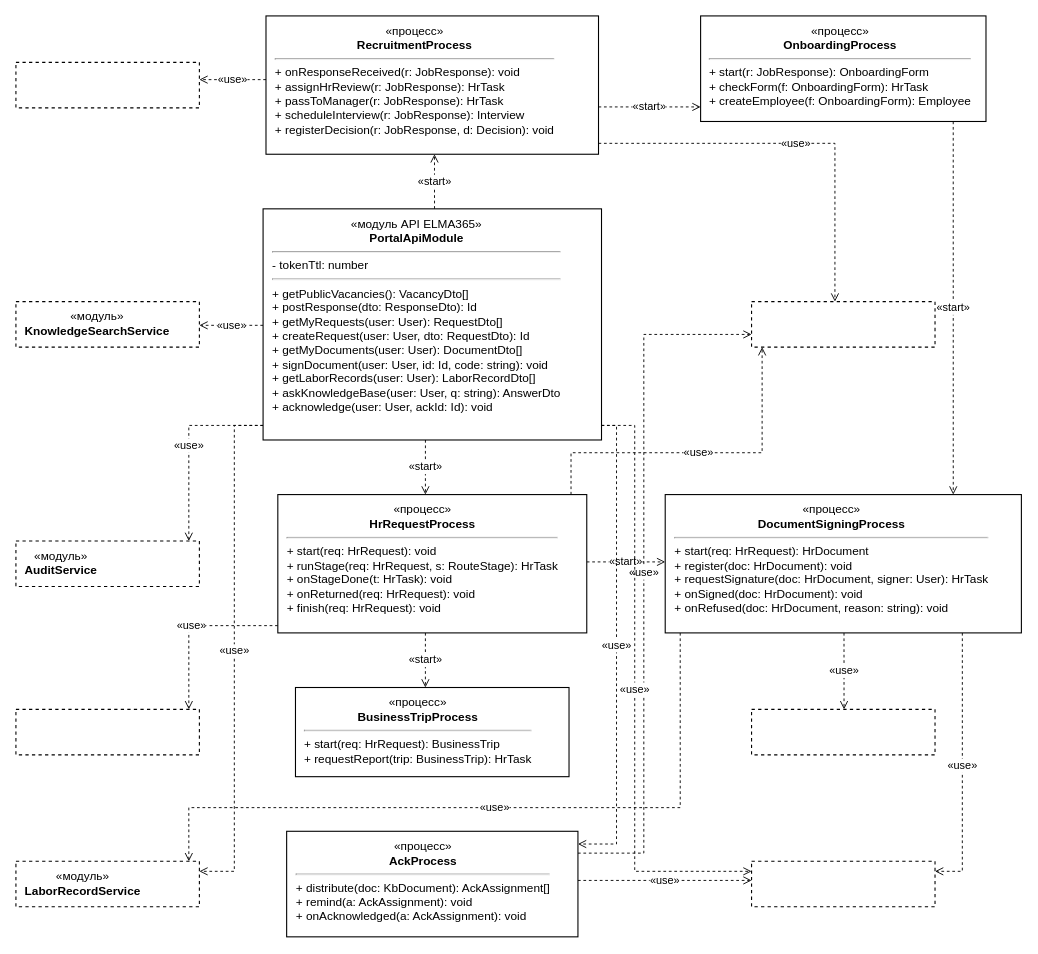
Some shapes in this 1038 by 954 pixel diagram are drawn without their labels. Here are the shapes that lost their labels. From the top down, the box of each, then its label:
(15, 61, 199, 108): «модуль» ResumeScoringService
(751, 301, 935, 347): «модуль» NotificationService
(15, 708, 199, 755): «модуль» RouteResolver
(751, 708, 935, 755): «модуль» DocumentGenerator
(751, 860, 935, 907): «модуль» SignatureService
